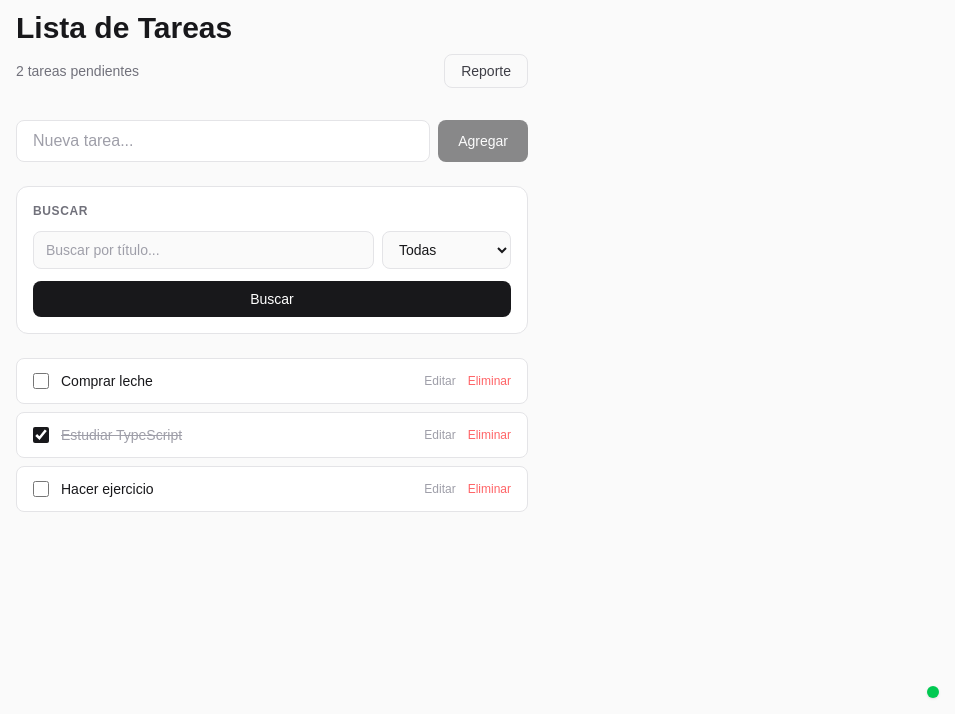
Test: ListaTareas — búsqueda › filtra tareas por estado "pendientes"
Expected: the text "Comprar leche" is shown, left=61, top=373, right=153, bottom=389
Select "Pendientes" in the dropdown named "Filtrar por estado": x=446, y=250 left=382, top=231, right=511, bottom=269
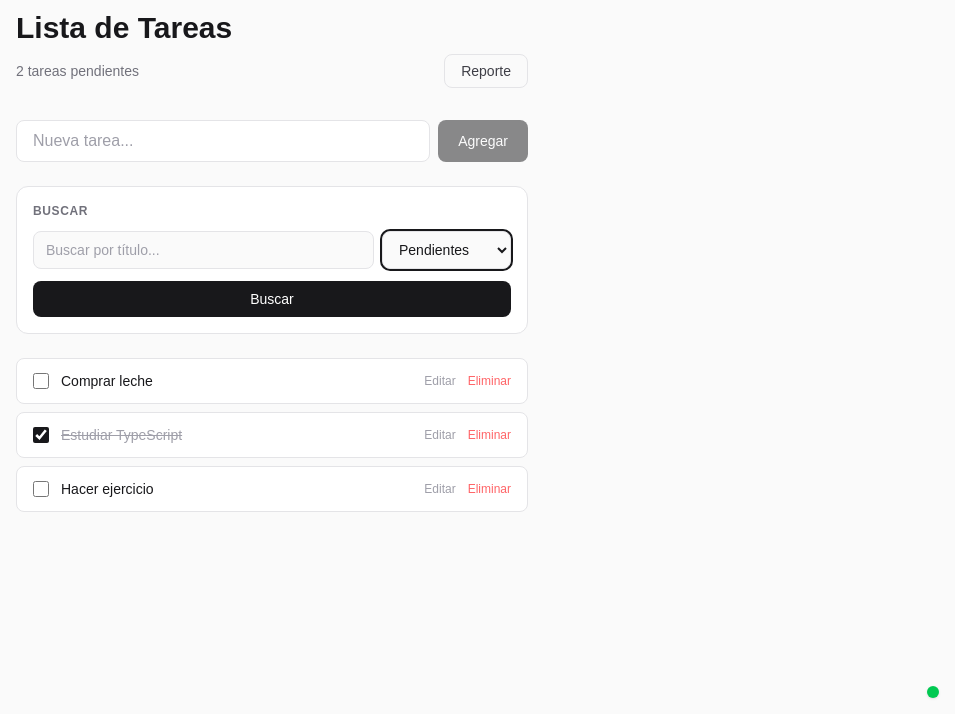
Click the button "Buscar": x=272, y=299 left=33, top=281, right=511, bottom=317
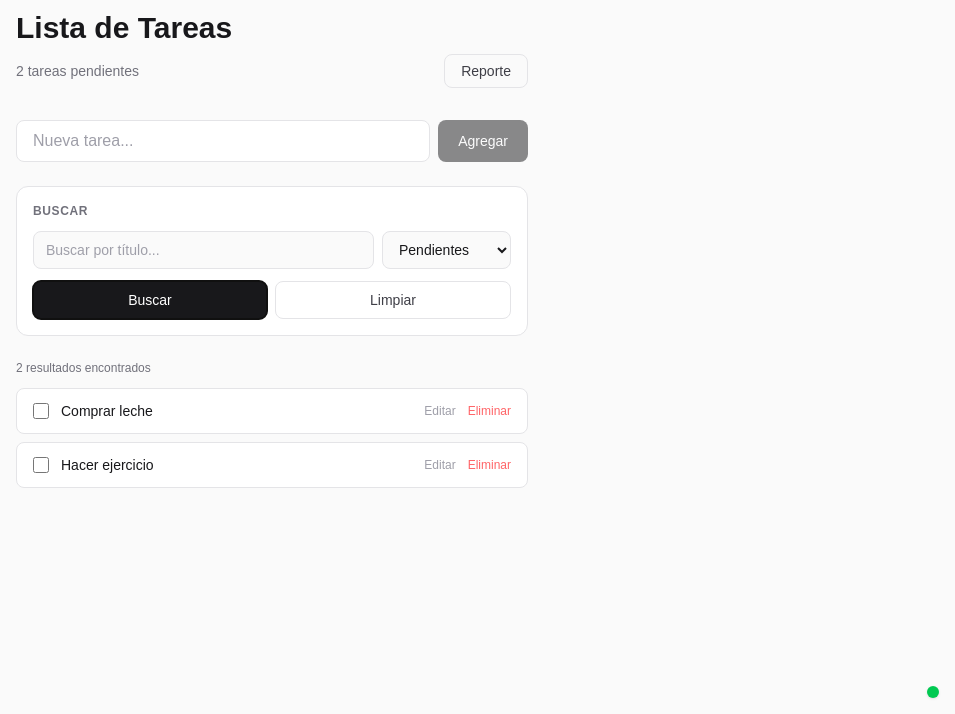
Expected: the text "Comprar leche" is shown, left=61, top=403, right=153, bottom=419
Expected: the text "Estudiar TypeScript" is gone
